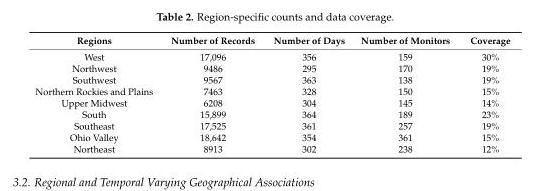table: (34, 34, 509, 154)
table column: (34, 34, 161, 154), (352, 34, 459, 154), (161, 34, 263, 154), (263, 34, 352, 154), (459, 34, 509, 154)
table column header: (34, 34, 509, 48)
table row: (34, 34, 509, 48), (34, 48, 509, 62), (34, 73, 509, 85), (34, 96, 509, 108), (34, 119, 509, 131), (34, 142, 509, 154), (34, 62, 509, 73), (34, 85, 509, 96), (34, 108, 509, 119), (34, 131, 509, 142)
